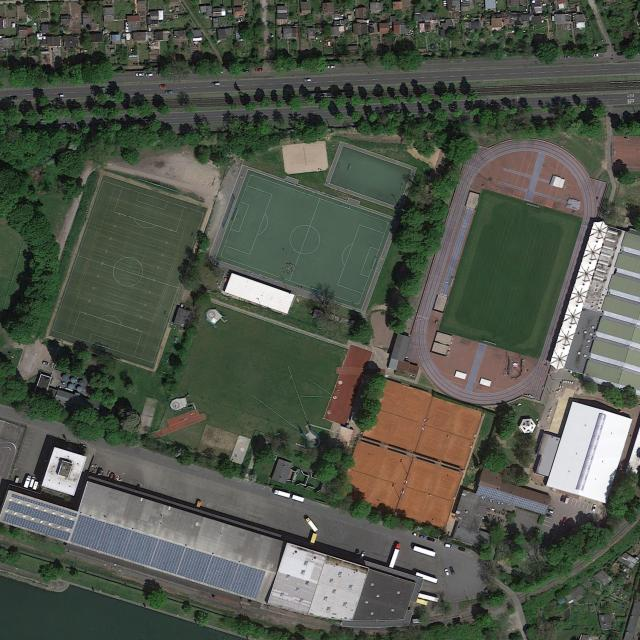large-vehicle: (273, 489, 306, 503), (389, 543, 401, 568), (305, 517, 318, 532), (23, 475, 31, 489), (29, 476, 35, 488)
small-vehicle: (564, 494, 571, 505), (444, 543, 454, 549), (426, 536, 436, 542), (449, 566, 455, 575), (444, 568, 450, 577), (591, 504, 597, 513), (418, 534, 426, 540), (484, 587, 490, 595), (458, 546, 466, 552), (355, 548, 360, 557), (593, 53, 604, 57), (145, 73, 153, 78), (136, 72, 144, 77), (560, 494, 565, 502), (360, 551, 365, 559), (42, 361, 50, 366), (254, 67, 264, 71), (563, 516, 567, 525), (165, 90, 172, 95), (545, 513, 552, 518), (211, 82, 219, 86), (616, 52, 624, 56), (156, 72, 164, 76), (327, 65, 335, 69), (547, 509, 554, 513), (159, 84, 166, 88), (303, 79, 312, 82), (57, 94, 66, 97), (241, 69, 249, 72), (10, 96, 18, 99)
storage-tank: (75, 384, 85, 394), (69, 375, 78, 385), (67, 383, 76, 392), (78, 378, 86, 387), (61, 374, 69, 382)
